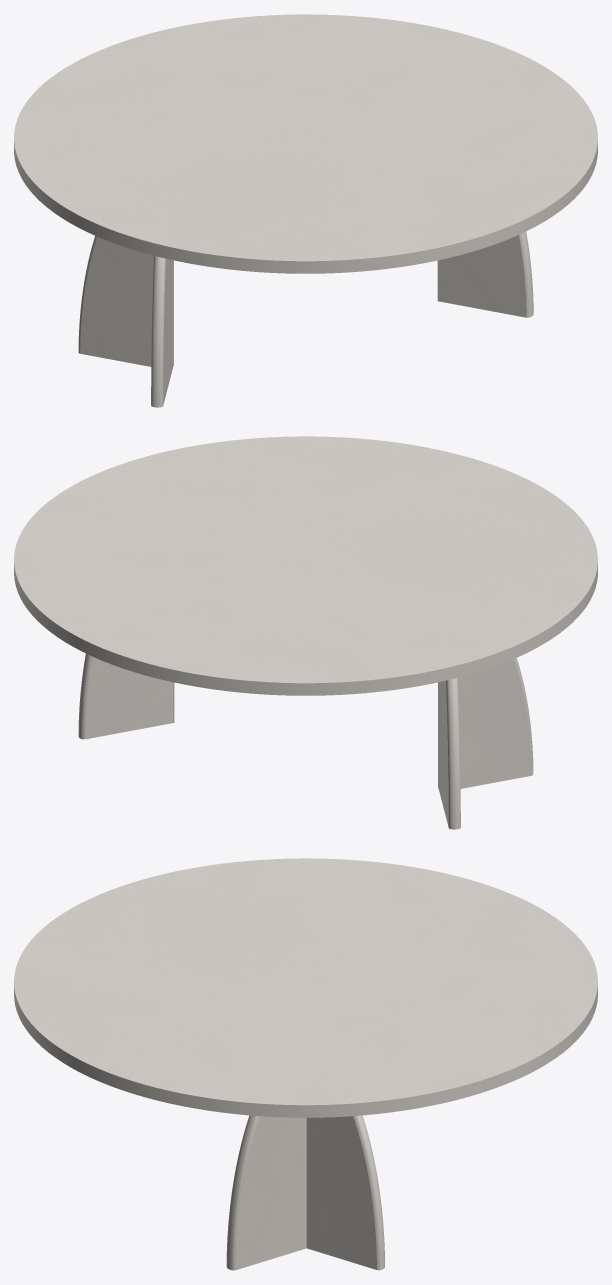
Rendered from pearlwhite_round_standard_newtable2.glb.
The picture shows the model from 3 angles, top to bottom: view 1: azimuth 30°, elevation 25°; view 2: azimuth 150°, elevation 25°; view 3: azimuth 270°, elevation 25°; orthographic projection.
Parts seen in each view (by area): view 1: standard_round, newtable2_singleleft1, newtable2_singleright2, newtable2_singleright1; view 2: standard_round, newtable2_singleright1, newtable2_singleleft2, newtable2_singleleft1; view 3: standard_round, newtable2_singleright2, newtable2_singleleft2.
Boxes of the visible parts, box(x1,y1,x2,y2) form: standard_round: box(14, 14, 597, 273); newtable2_singleleft1: box(78, 236, 173, 366); newtable2_singleright2: box(437, 231, 533, 317); newtable2_singleright1: box(151, 256, 173, 407); standard_round: box(14, 436, 597, 695); newtable2_singleright1: box(438, 658, 533, 788); newtable2_singleleft2: box(78, 653, 173, 739); newtable2_singleleft1: box(438, 678, 460, 829); standard_round: box(14, 858, 597, 1117); newtable2_singleright2: box(226, 1115, 306, 1270); newtable2_singleleft2: box(306, 1115, 384, 1270).
Bounding box in the file's own units: 6.75 × 2.49 × 6.75.
1 material, 1 textured.
